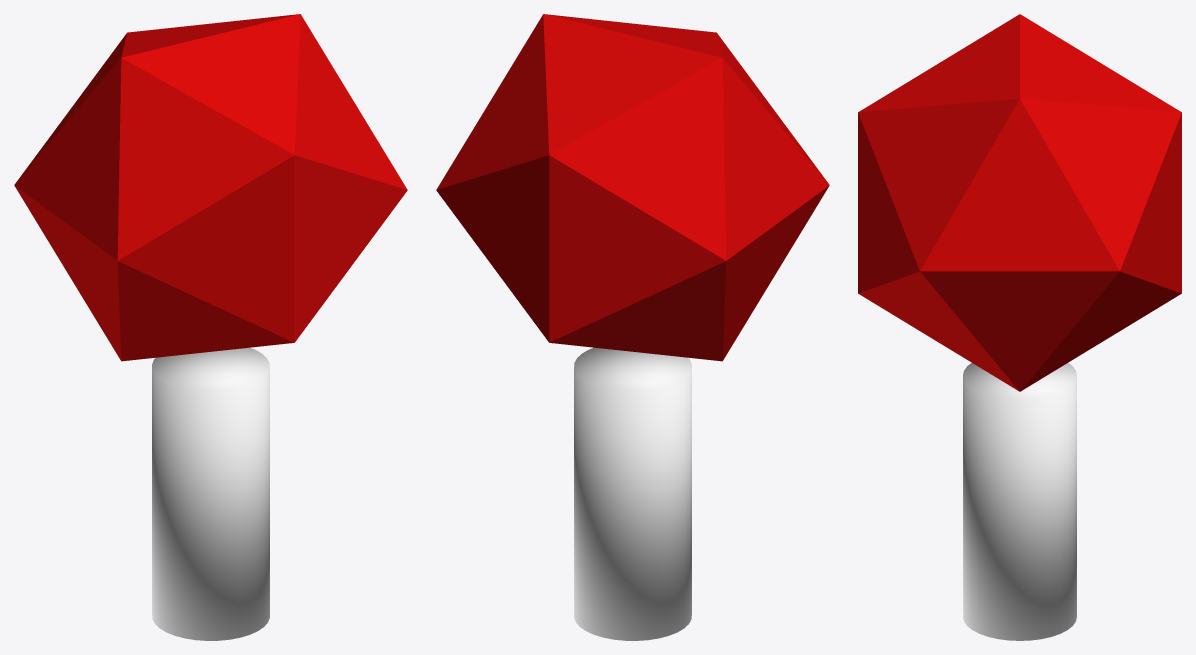
File: object.backup-20261026-211108.glb
3 views of the same model, side by side, from view 1: azimuth 30°, elevation 25°; view 2: azimuth 150°, elevation 25°; view 3: azimuth 270°, elevation 25° (orthographic). The views are drawn at different scales.
Visible parts, largest first — view 1: geometry_0, geometry_1; view 2: geometry_0, geometry_1; view 3: geometry_0, geometry_1.
Part boxes in pixels (x1=…): geometry_0: x1=14, y1=14, x2=407, y2=361; geometry_1: x1=152, y1=347, x2=269, y2=640; geometry_0: x1=436, y1=14, x2=829, y2=361; geometry_1: x1=574, y1=347, x2=691, y2=640; geometry_0: x1=858, y1=14, x2=1181, y2=391; geometry_1: x1=963, y1=363, x2=1076, y2=640.
Bounding box in the file's own units: 0.8507 × 1.63 × 0.8507.
